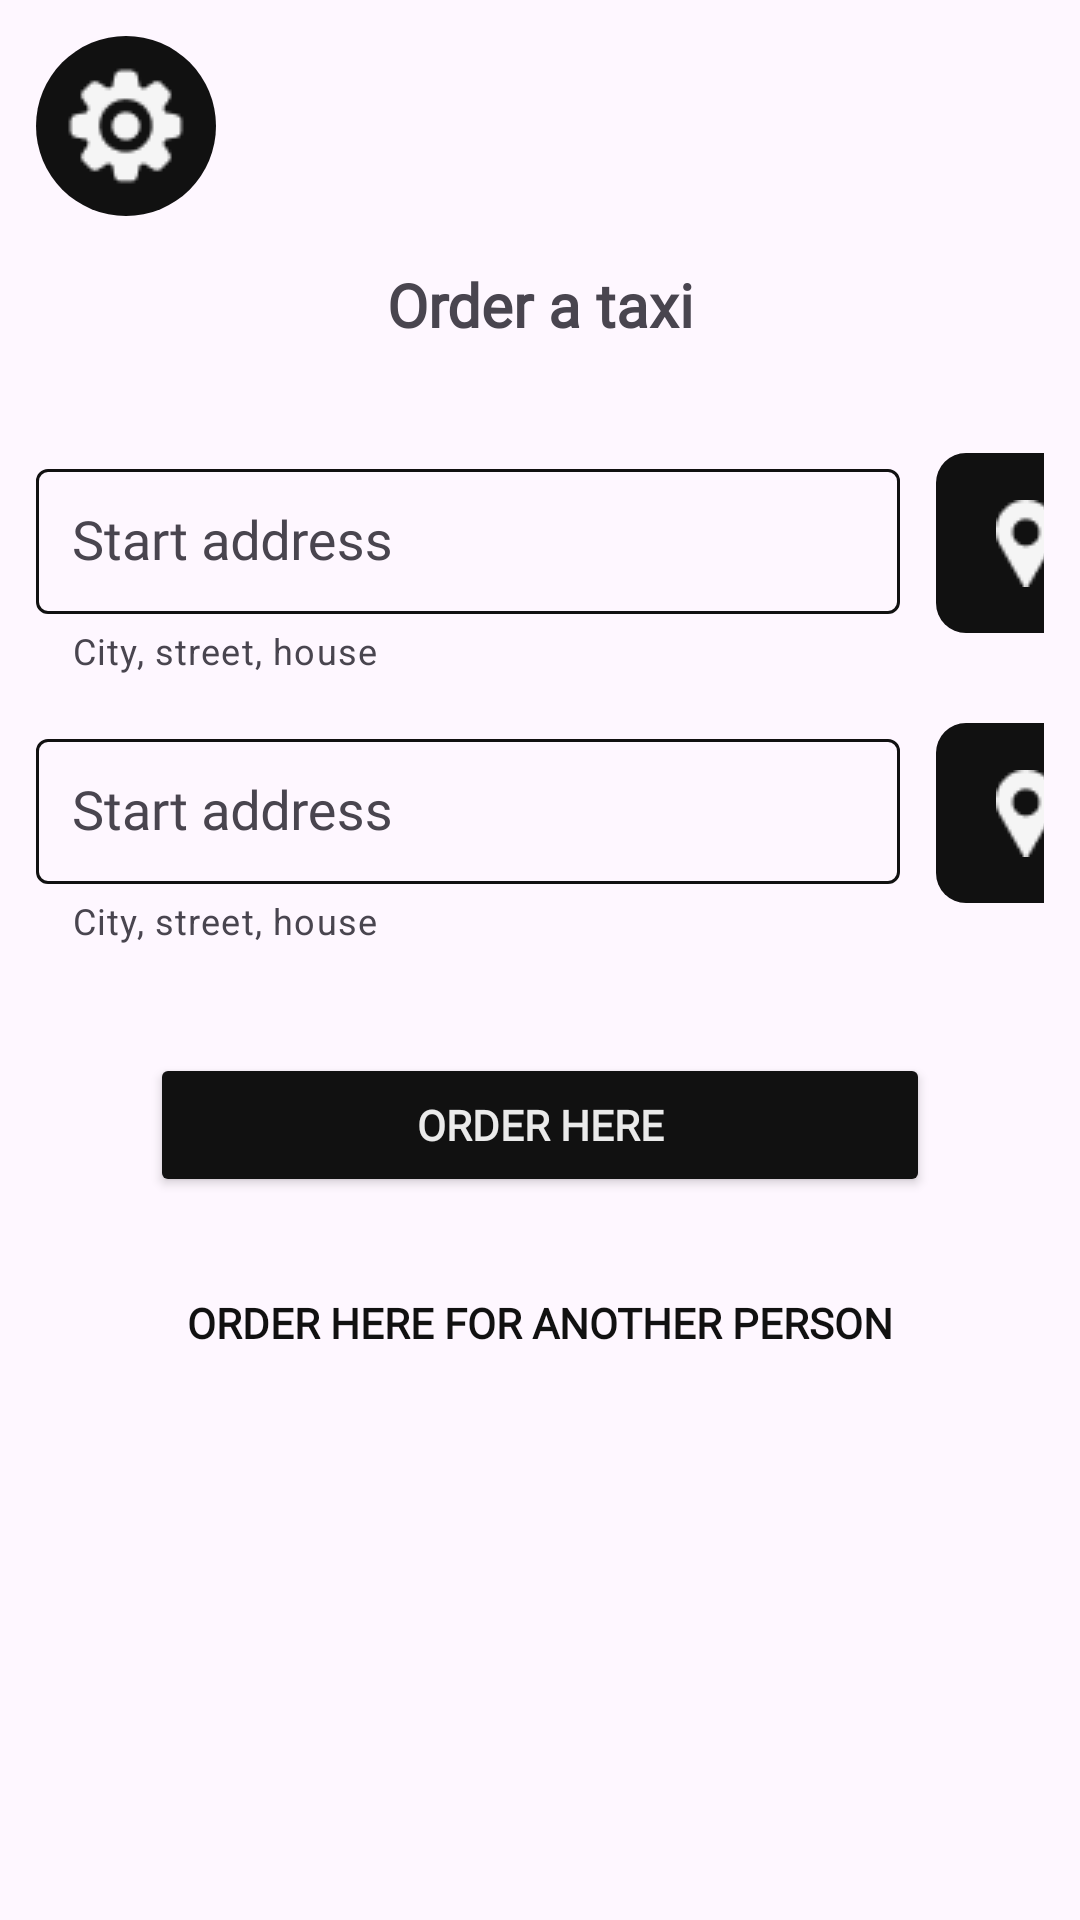

Where to tap for icons on this 1080w x 1920h app screen, as (x=x, y=y):
settings: (x=126, y=126)
